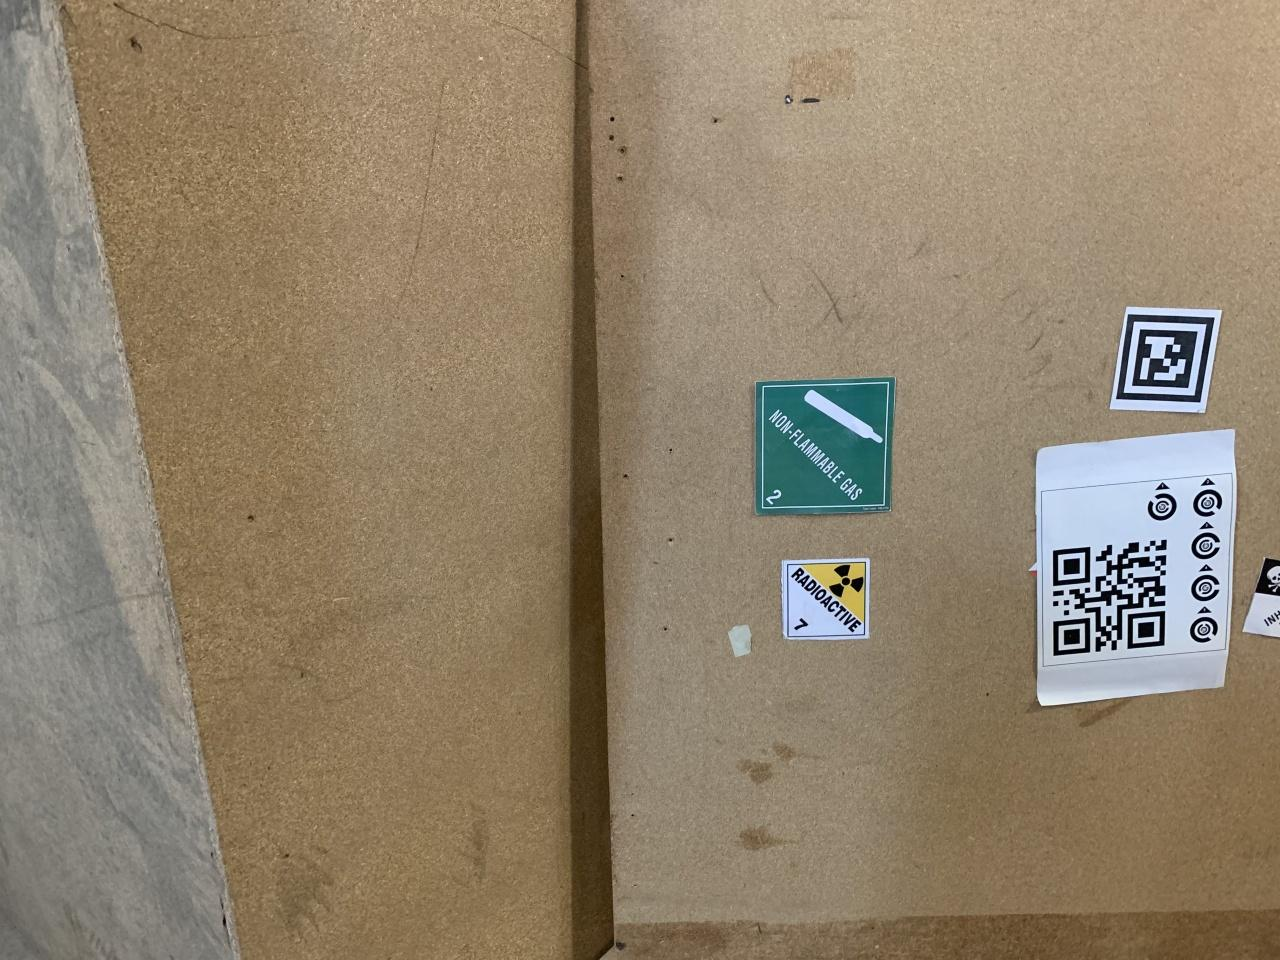non-flammable-gas: (758, 384, 892, 514)
radioactive: (784, 562, 870, 641)
